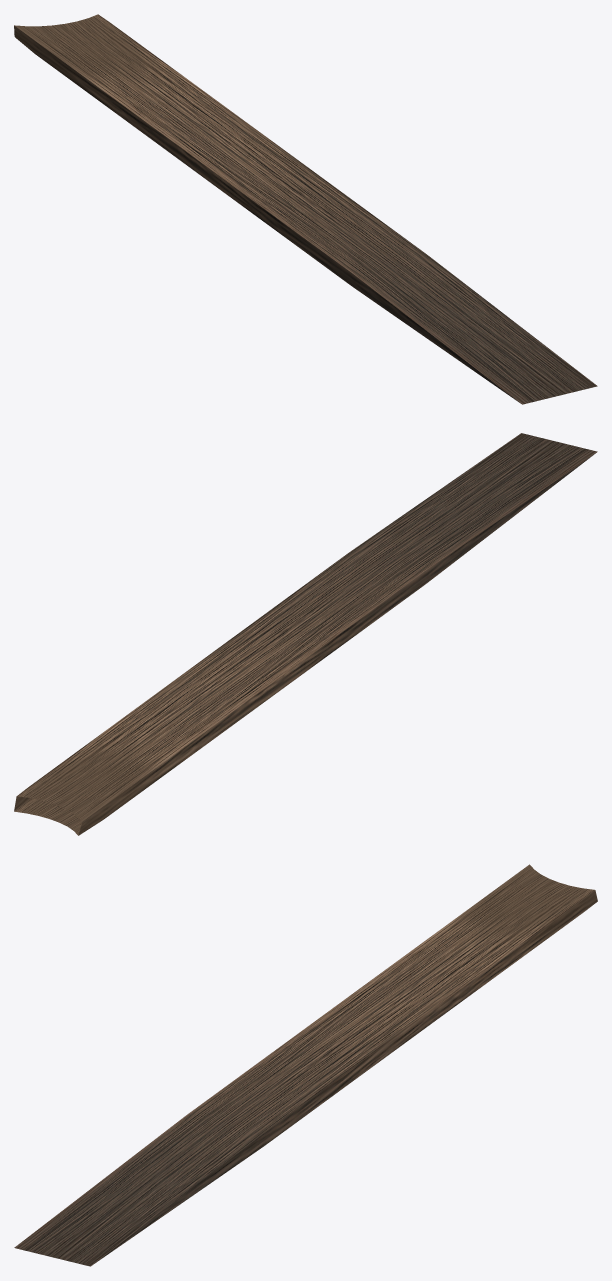
Rendered from Hair_Strand_Part_1_2.fbx.
3 renders of one model, top to bottom at view 1: azimuth 30°, elevation 25°; view 2: azimuth 150°, elevation 25°; view 3: azimuth 330°, elevation 25°, orthographic.
Parts seen in each view (by area): view 1: Hair_Strand_Part_1; view 2: Hair_Strand_Part_1; view 3: Hair_Strand_Part_1.
Boxes of the visible parts, x1,y1,x2,y2 form: Hair_Strand_Part_1: (14, 14, 597, 404); Hair_Strand_Part_1: (14, 433, 597, 835); Hair_Strand_Part_1: (14, 864, 597, 1266).
Bounding box in the file's own units: 8.76 × 1.47 × 102.
